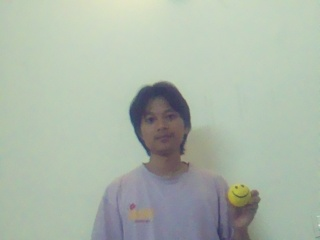ball: (228, 184, 250, 206)
